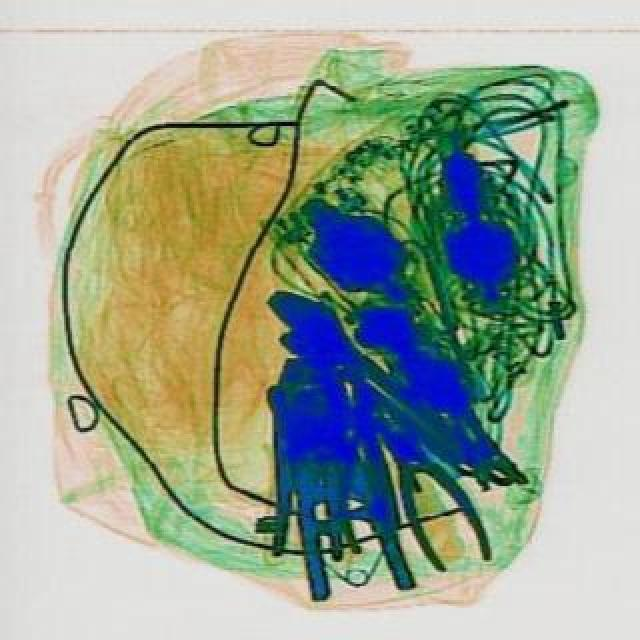wrench: (262, 380, 414, 608), (348, 396, 498, 582), (254, 356, 354, 560)
